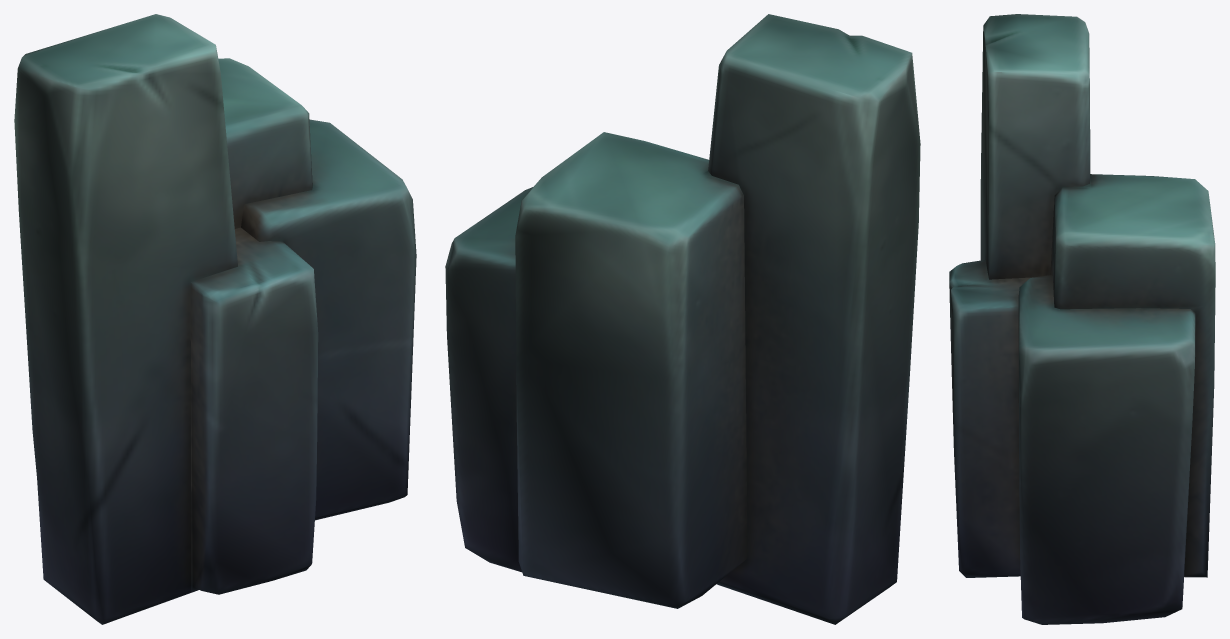
File: SM_Gem_Titanium_005.fbx
3 renders of one model, left to right at view 1: azimuth 30°, elevation 25°; view 2: azimuth 150°, elevation 25°; view 3: azimuth 270°, elevation 25°, orthographic. The views are drawn at different scales.
Visible parts, largest first — view 1: SM_Gem_Titanium_005; view 2: SM_Gem_Titanium_005; view 3: SM_Gem_Titanium_005.
Boxes of the visible parts, x1,y1,x2,y2 form: SM_Gem_Titanium_005: (14, 14, 416, 624); SM_Gem_Titanium_005: (445, 14, 920, 624); SM_Gem_Titanium_005: (949, 14, 1215, 624).
Size of the model in its own units: 32.9 by 46.4 by 22.92.
